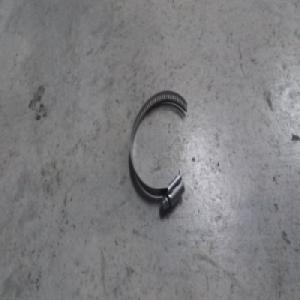AdjustableClamp: (130, 87, 193, 206)
